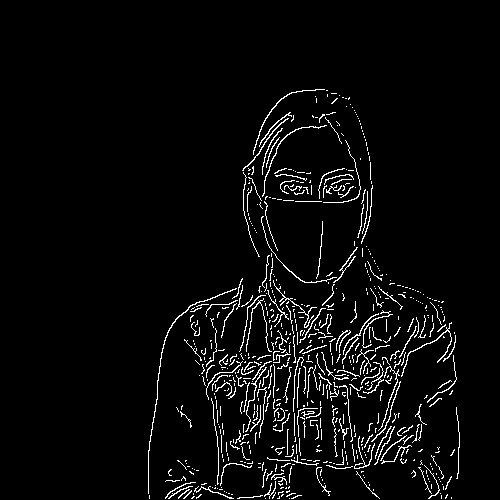mask: (261, 196, 374, 279)
